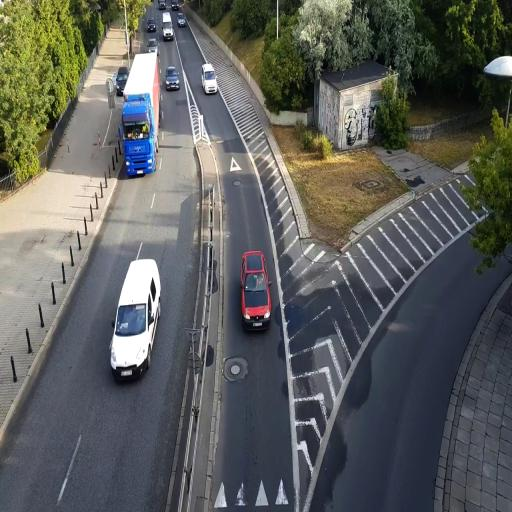vehicle: (110, 258, 162, 382), (120, 93, 157, 178), (240, 250, 271, 332), (201, 65, 218, 95), (160, 10, 174, 42), (114, 66, 129, 95), (160, 11, 174, 42), (165, 66, 181, 90), (178, 14, 186, 27)
